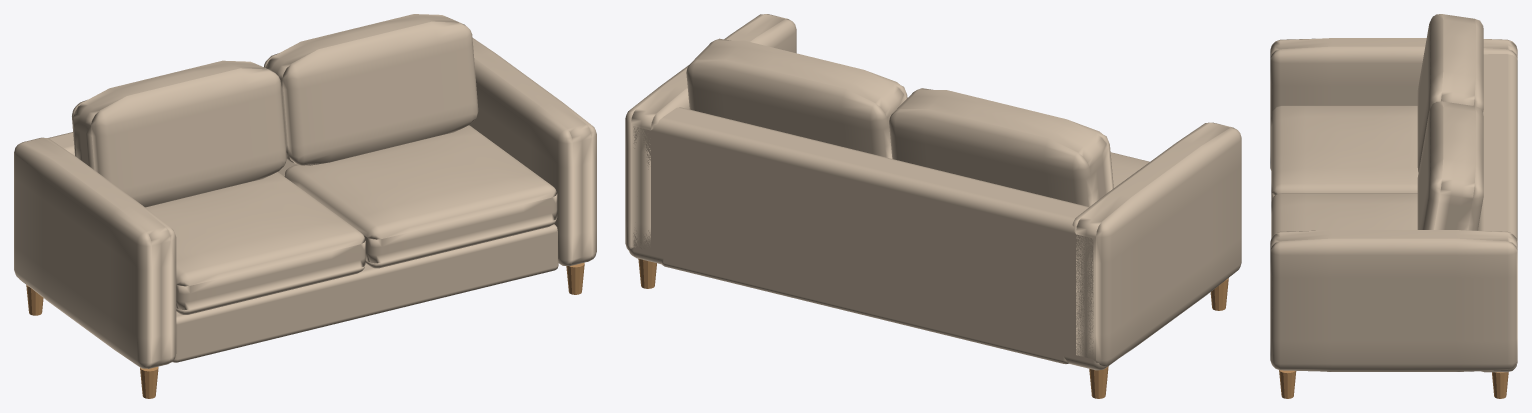
The model's file is sofa_2seat__w170.glb.
3 views of the same model, side by side, from view 1: azimuth 30°, elevation 25°; view 2: azimuth 150°, elevation 25°; view 3: azimuth 270°, elevation 25° (orthographic). The views are drawn at different scales.
Parts seen in each view (by area): view 1: sofa_2seat__w170; view 2: sofa_2seat__w170; view 3: sofa_2seat__w170.
Part boxes in pixels (x1,y1,x2,y2): sofa_2seat__w170: (14, 14, 596, 398); sofa_2seat__w170: (625, 14, 1241, 398); sofa_2seat__w170: (1270, 14, 1517, 398).
Bounding box in the file's own units: 1.7 × 0.8 × 0.85.
